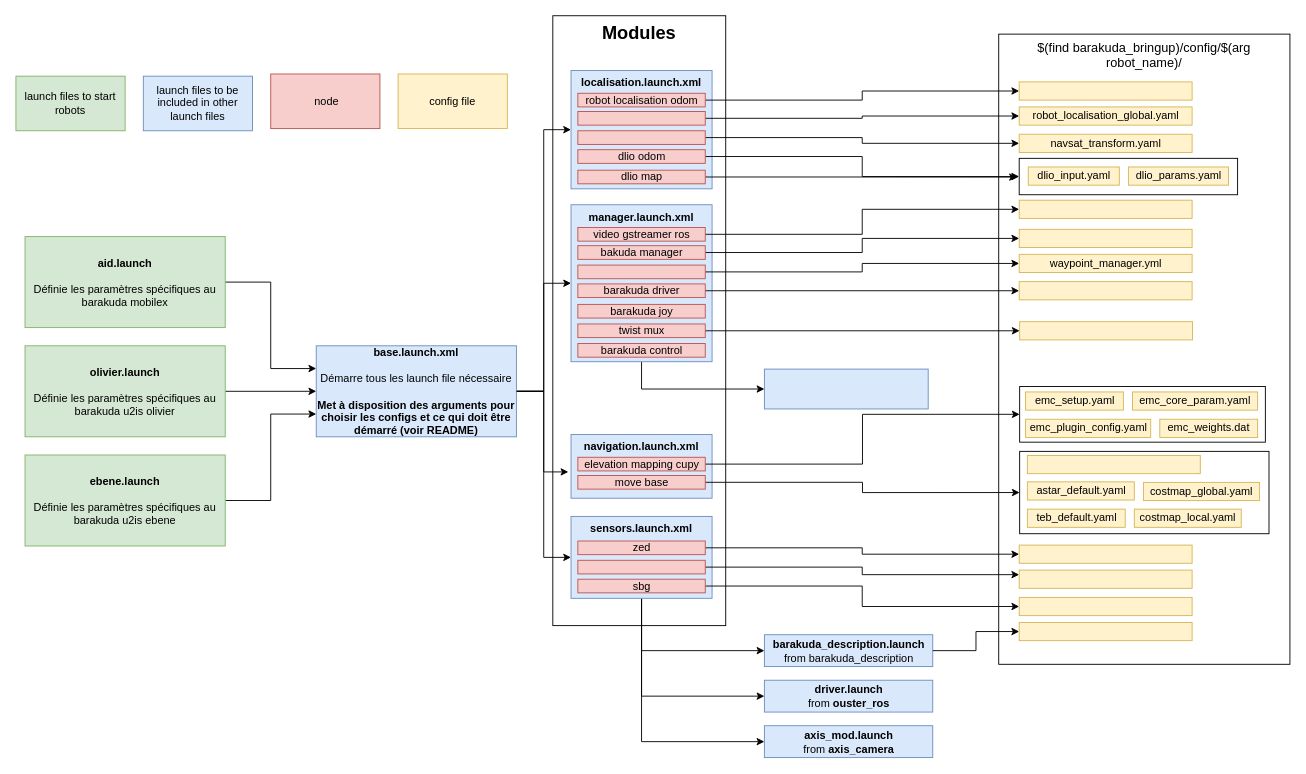
Image size: 1306x774. Some labels were removed from this diagram. Each missing label, with the centre of its shape:
barakuda_driver.yaml: pixel 1105 290
barakuda_manager.yaml: pixel 1105 238
move_base.yaml: pixel 1113 464
navsat transform: pixel 641 137
ntrip: pixel 641 566
ntrip.yaml: pixel 1105 578
robot localisation map: pixel 641 118
robot_localisation_local.yaml: pixel 1105 90
rosbridge_websocket.launch from rosbridge_server: pixel 845 388
rtp.yaml: pixel 1105 208
sbg.yaml: pixel 1105 606
twist_mux.yaml: pixel 1106 330
urdf.yaml: pixel 1105 631
waypoint manager: pixel 641 271
zed.yaml: pixel 1105 553
